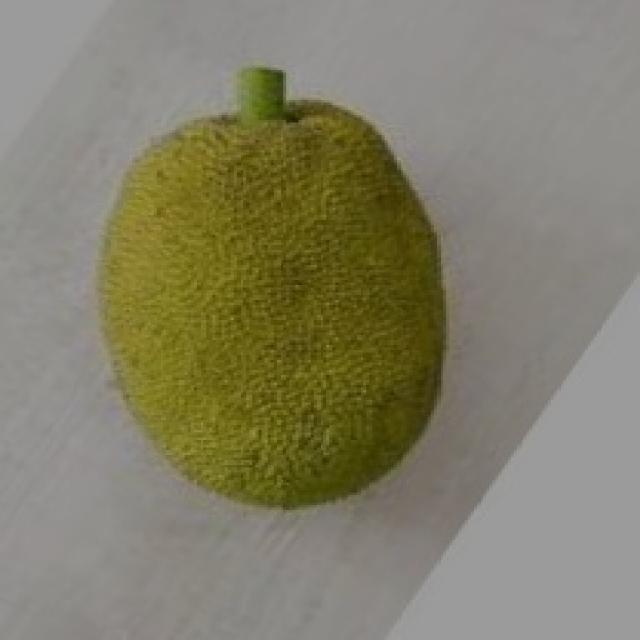Fruit: (68, 85, 477, 523)
